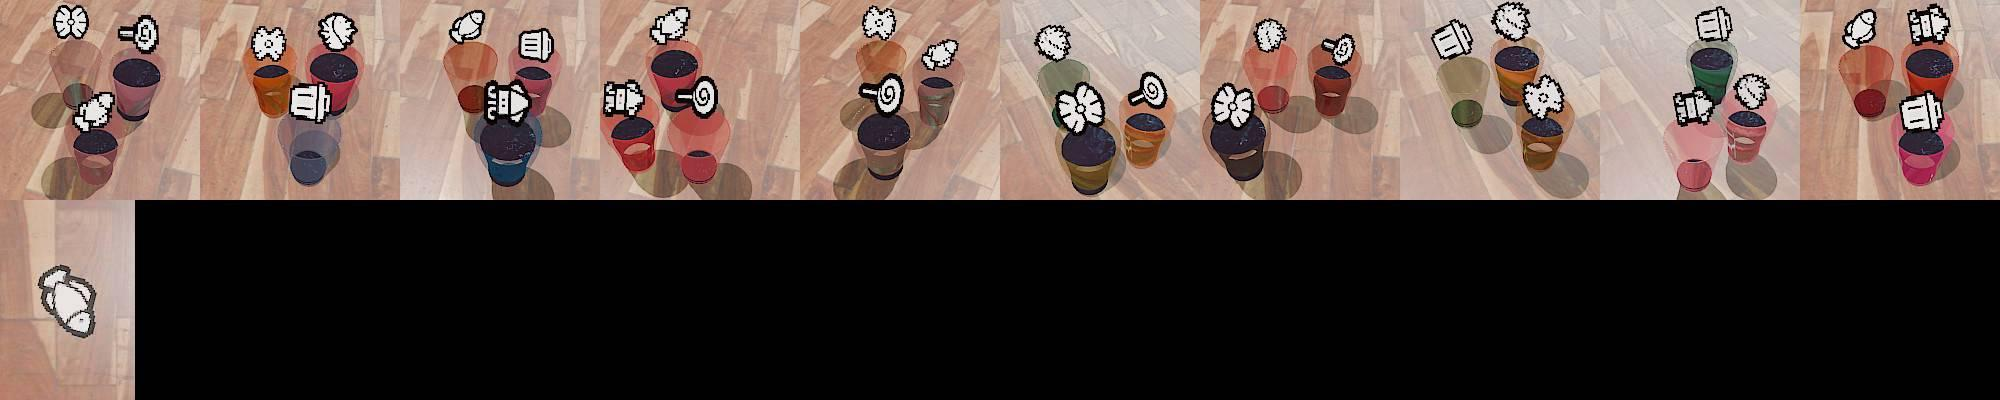icon: (36, 263, 97, 339), (1053, 79, 1105, 135), (484, 80, 536, 127), (858, 68, 905, 116), (673, 74, 720, 120), (1212, 81, 1255, 130), (1522, 74, 1564, 121), (1431, 17, 1475, 61), (601, 76, 648, 117), (72, 89, 117, 131), (1900, 90, 1945, 132), (289, 80, 333, 122), (1908, 4, 1953, 45), (650, 6, 692, 47), (119, 14, 160, 55), (1490, 1, 1532, 41), (1128, 70, 1167, 111), (317, 13, 357, 52), (1034, 22, 1072, 62), (1842, 8, 1878, 50), (1673, 89, 1713, 126), (250, 24, 287, 63), (861, 4, 898, 42), (517, 27, 556, 63), (919, 39, 961, 72), (53, 4, 90, 41), (1695, 6, 1733, 42), (1733, 73, 1769, 110), (448, 9, 485, 45), (1253, 18, 1288, 53), (1319, 33, 1355, 67), (117, 24, 135, 42)
